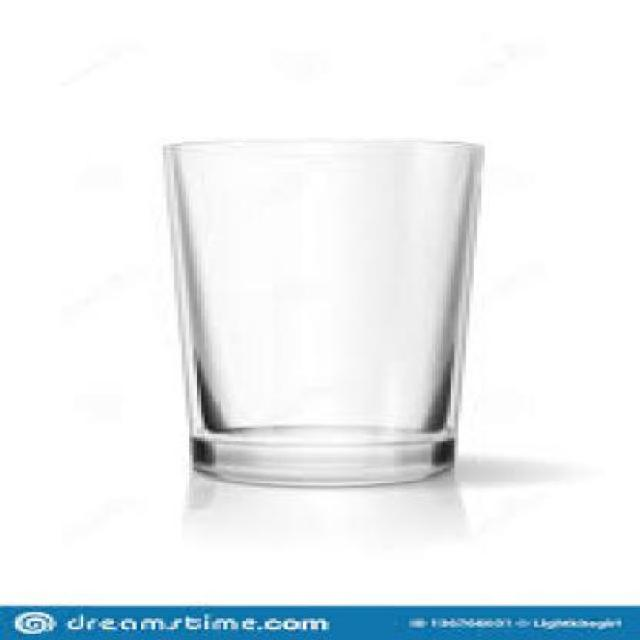kaca: (163, 137, 477, 481)
